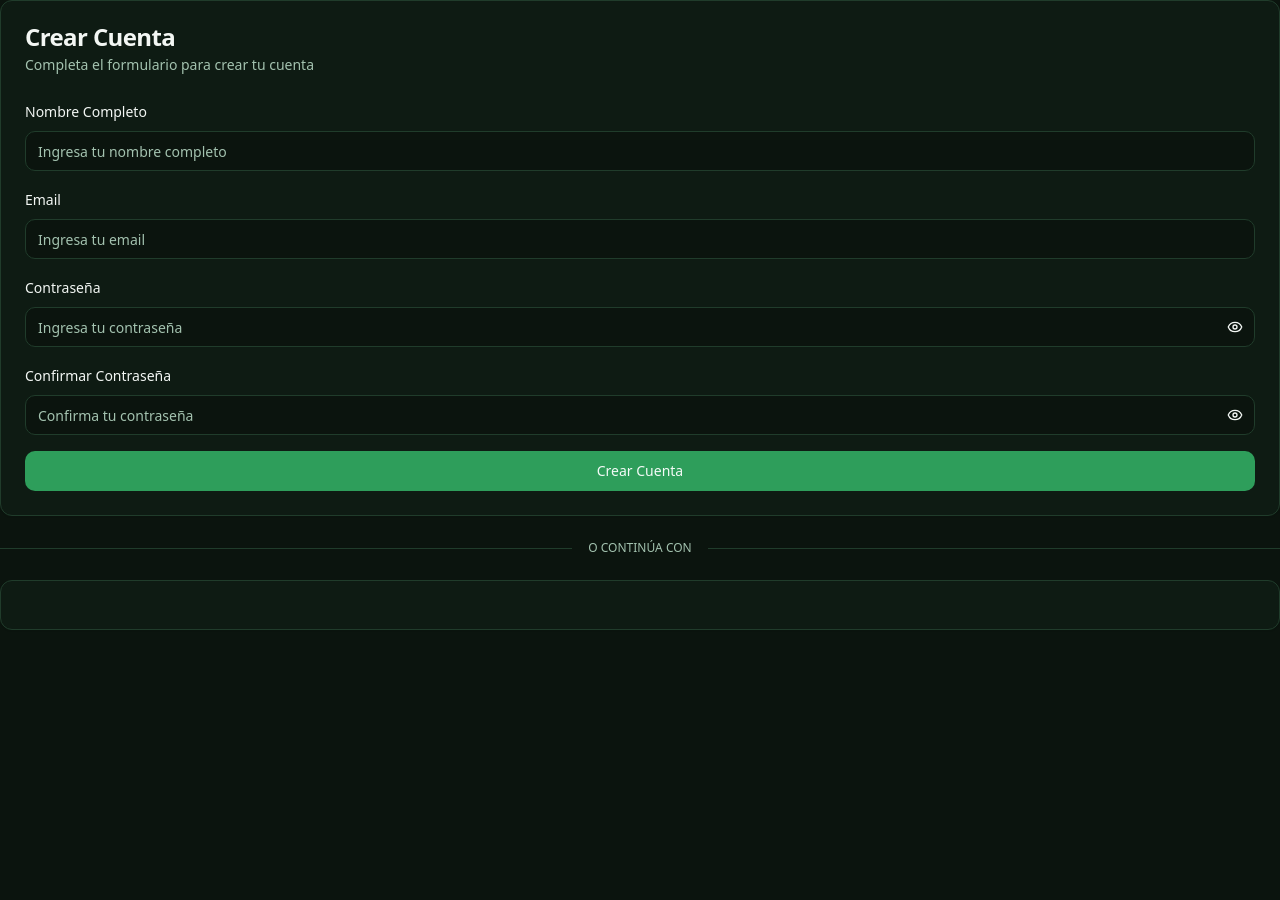
Test: RegisterForm › rejects mismatched passwords
Step 1. Type "Test User" into the field labelled "Nombre Completo" → (640, 151), box [25, 131, 1255, 171]
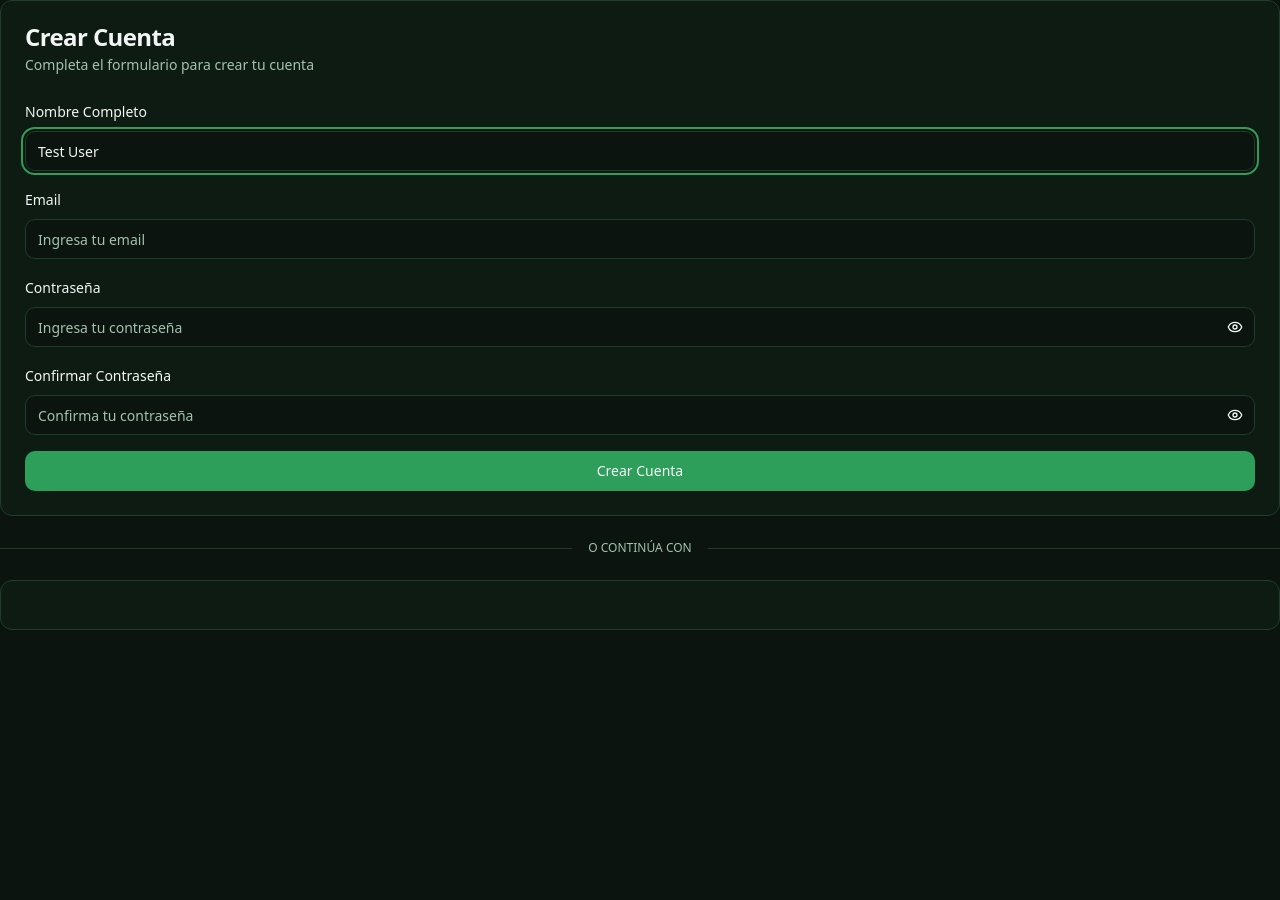
Step 2. Type "test@example.com" into the field labelled "Email" → (640, 239), box [25, 219, 1255, 259]
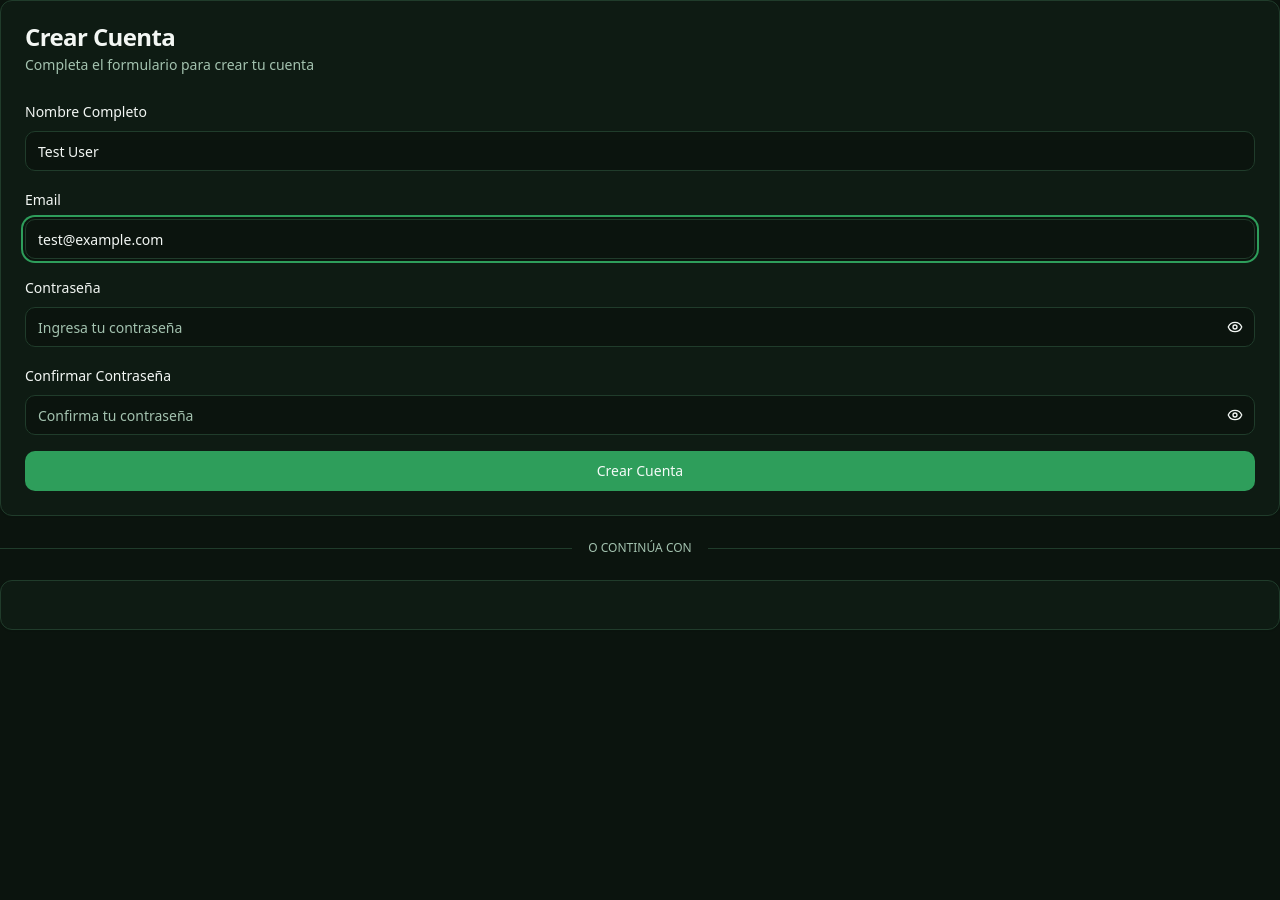
Step 3. Type "password123" into the password field with placeholder "Ingresa tu contraseña" → (640, 327), box [25, 307, 1255, 347]
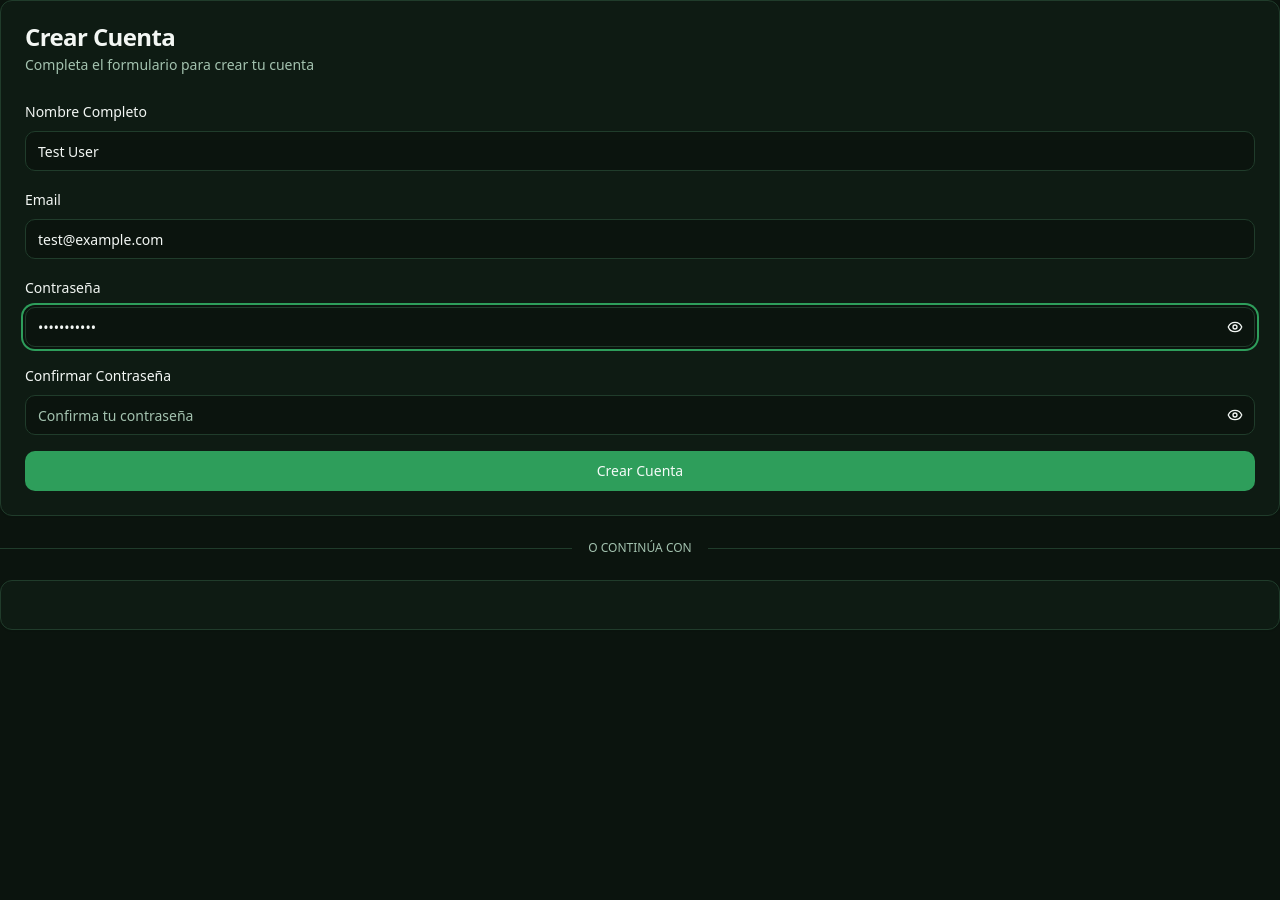
Step 4. Type "different123" into the password field with placeholder "Confirma tu contraseña" → (640, 415), box [25, 395, 1255, 435]
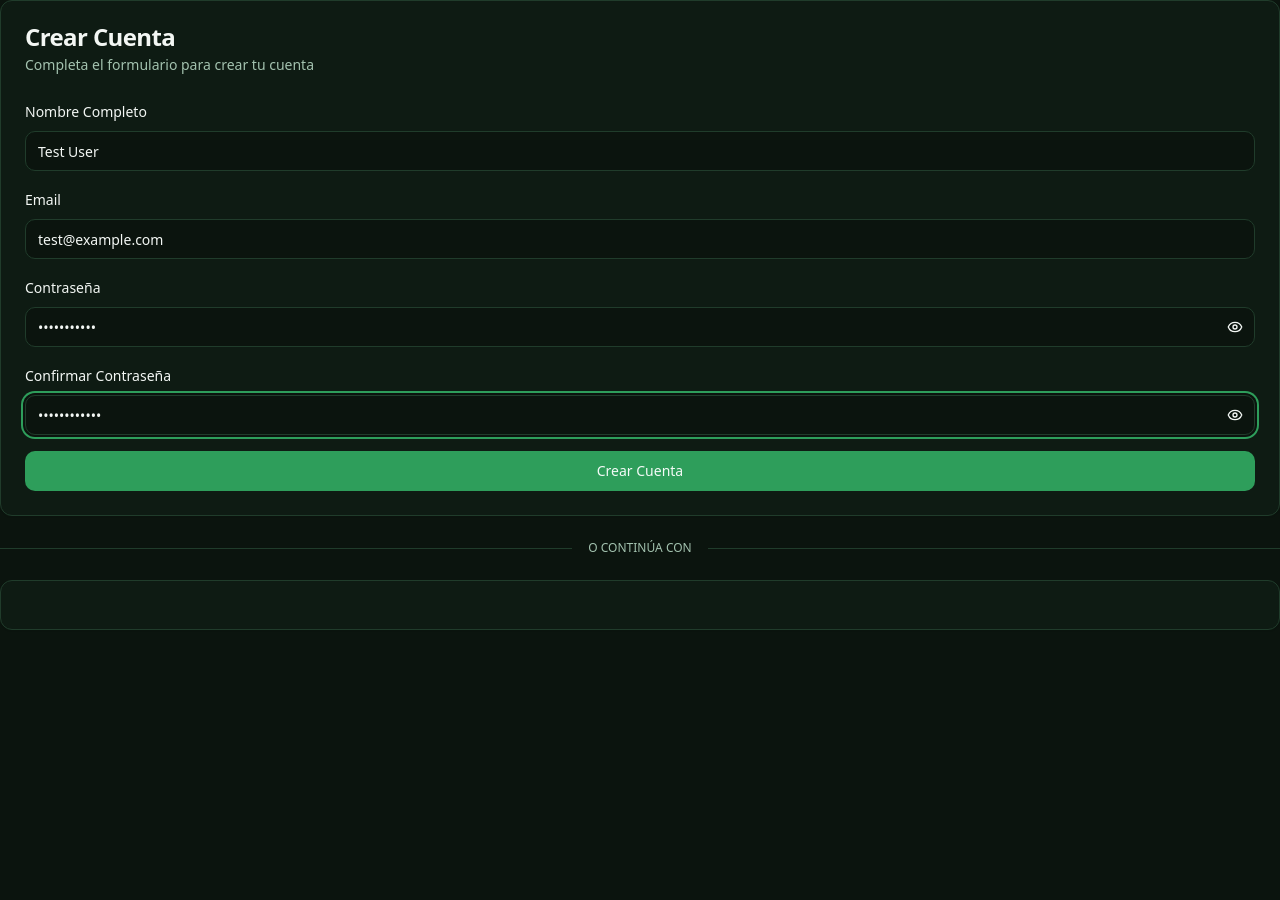
Step 5. Click the button "Crear Cuenta" → click(640, 471), box [25, 451, 1255, 491]
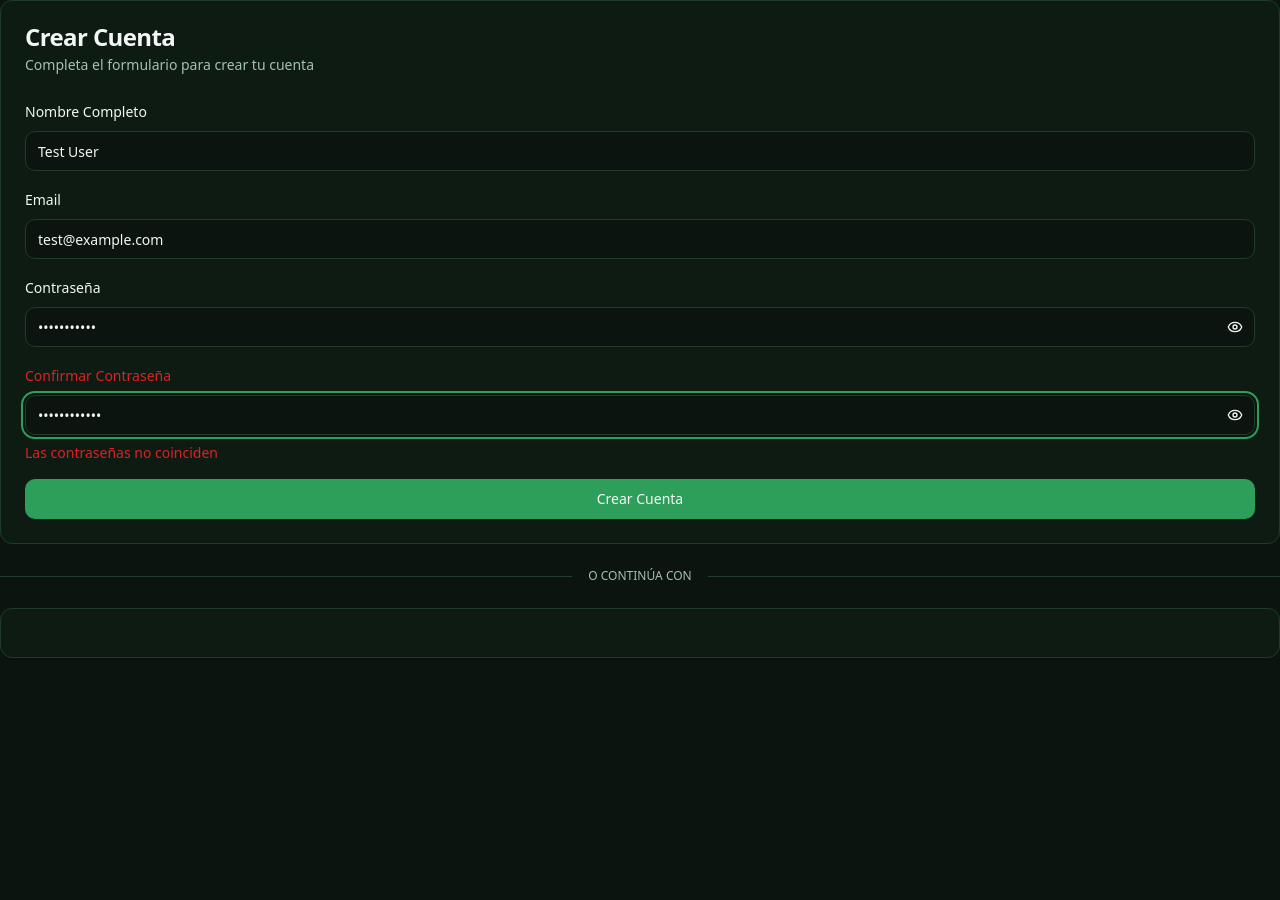
Result: the text "Las contraseñas no coinciden" is shown at [25, 443, 218, 462]
